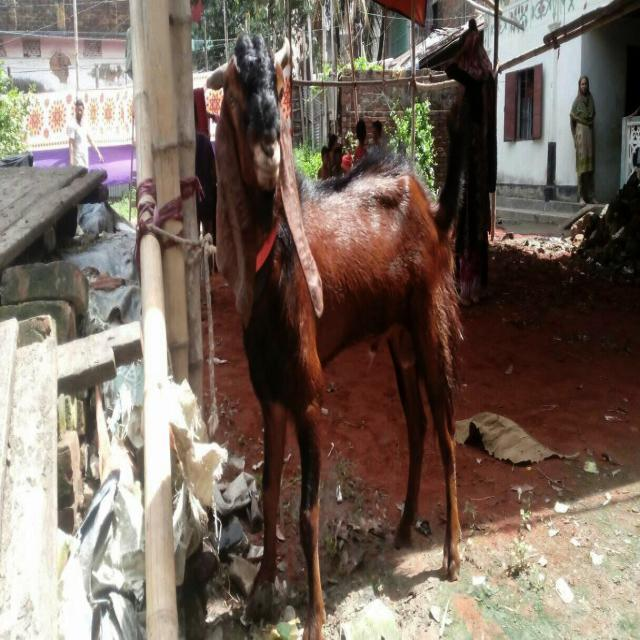Goat: (204, 32, 470, 637)
